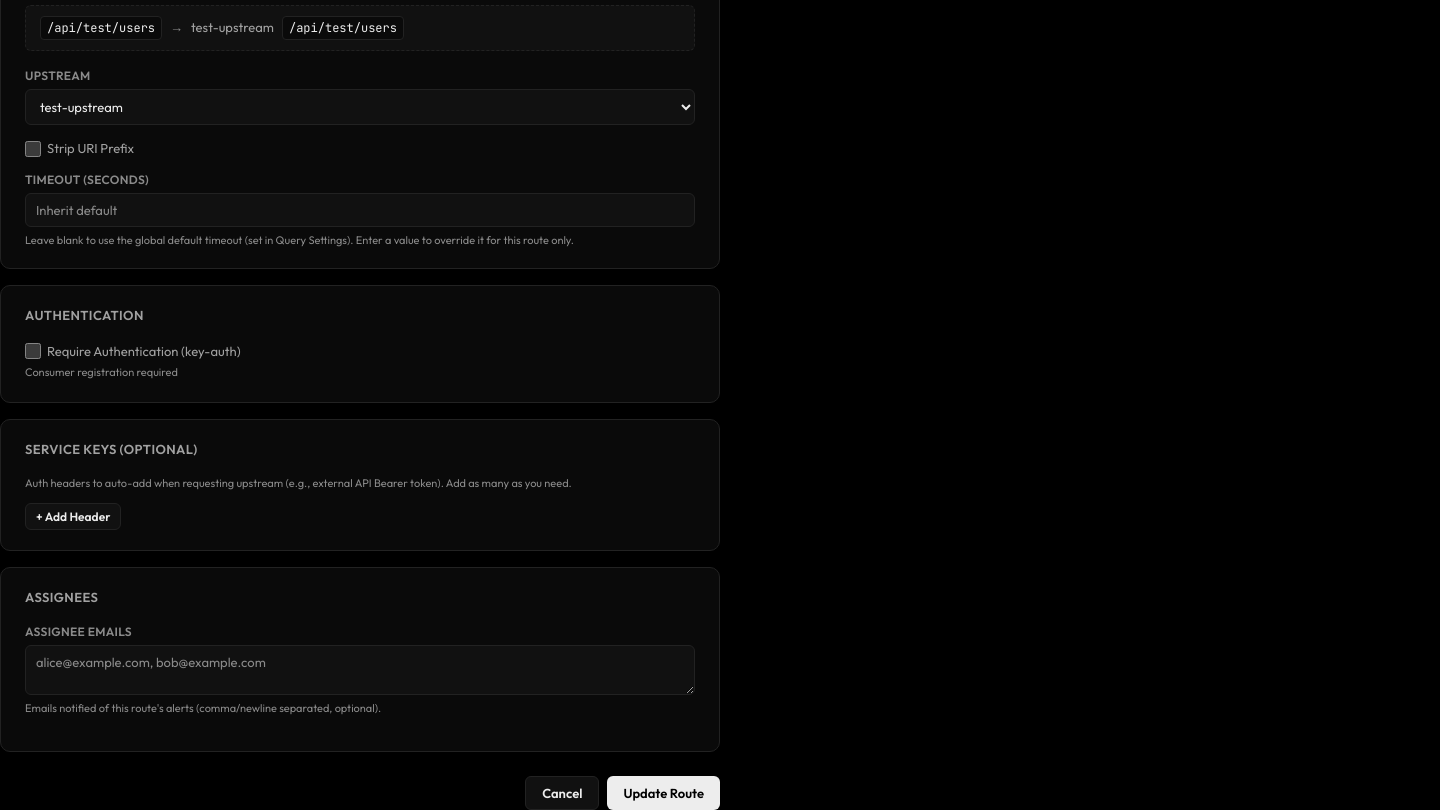
Test case: GatewayRouteForm › reports an assignee update failure but still completes the saved route flow
(page scrolled)
Type "owner@example.com" into the text box labelled "Assignee emails" at [360, 670], box [25,646,695,696]
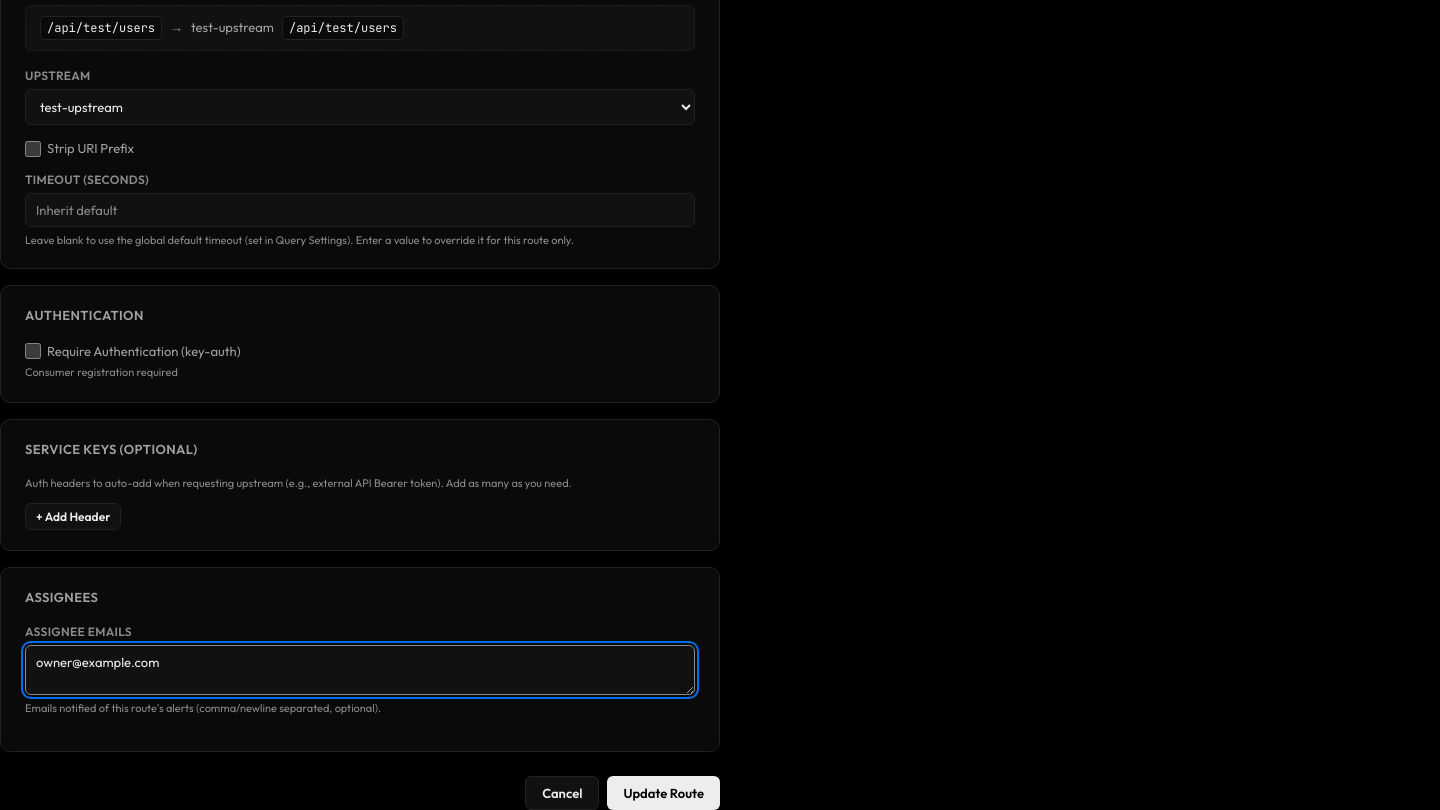
Click the button "Update Route" at [664, 793], box [607,776,720,809]
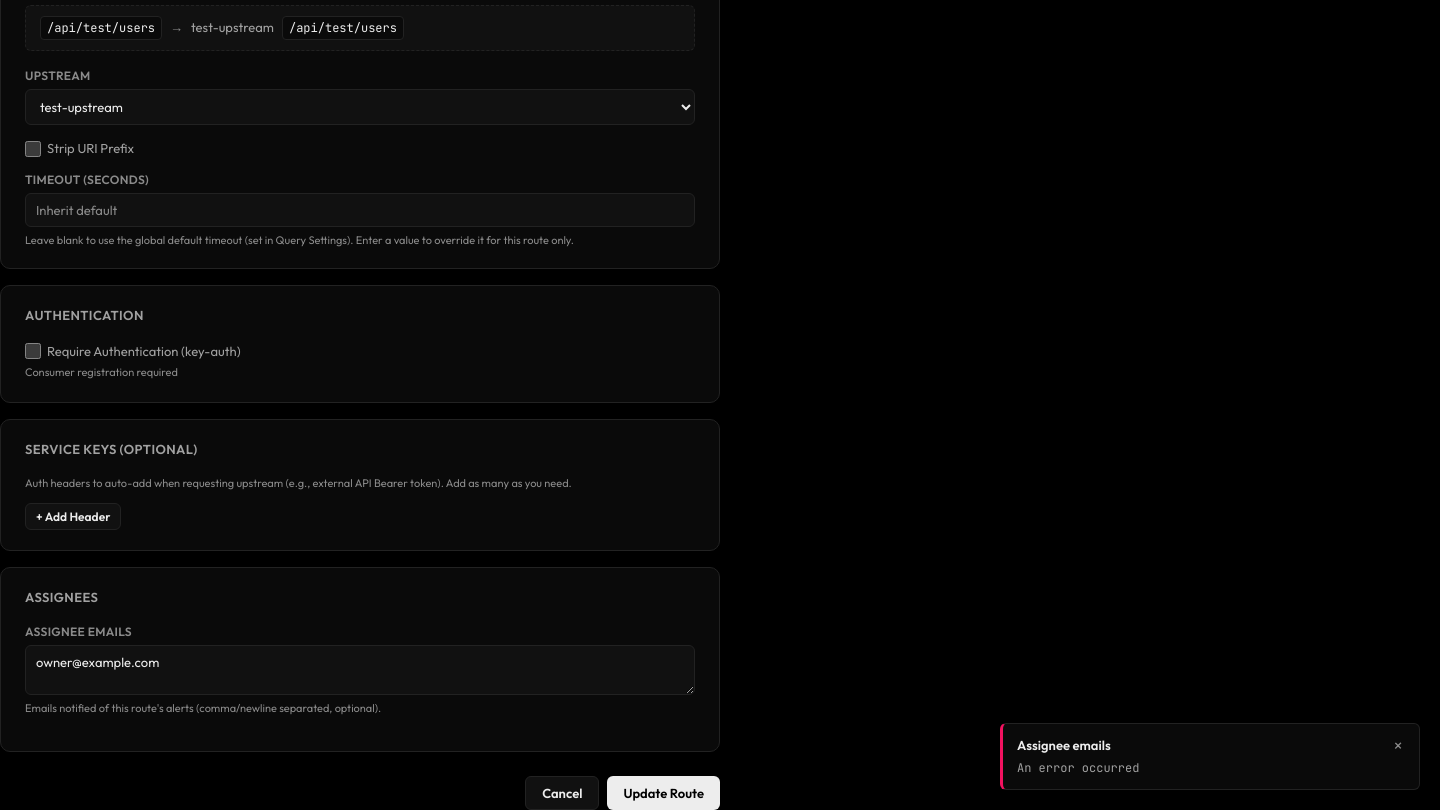
Expected: the text "An error occurred" is shown, [1017,760,1139,776]
